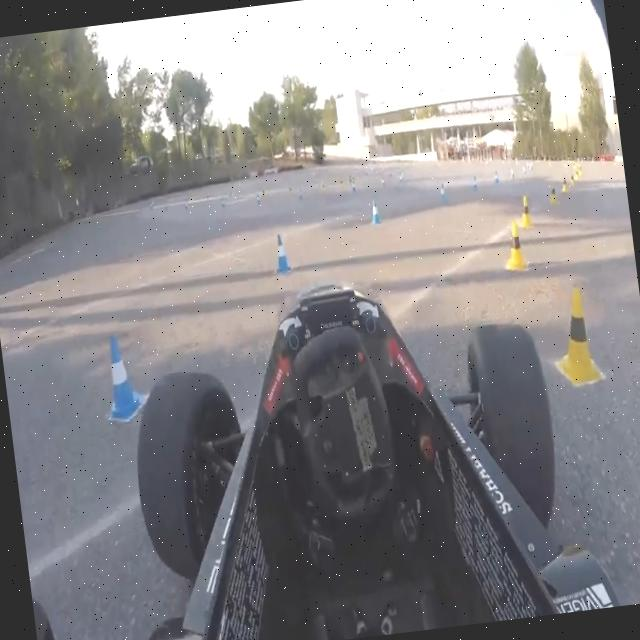blue_cone: (95, 328, 148, 422), (270, 232, 293, 276), (368, 197, 382, 226), (438, 180, 448, 206), (472, 174, 479, 194), (491, 170, 499, 187), (509, 166, 515, 183)
yellow_cone: (550, 284, 603, 390), (500, 220, 529, 275), (514, 190, 534, 230), (558, 172, 570, 195), (548, 179, 558, 204), (568, 170, 576, 188)
